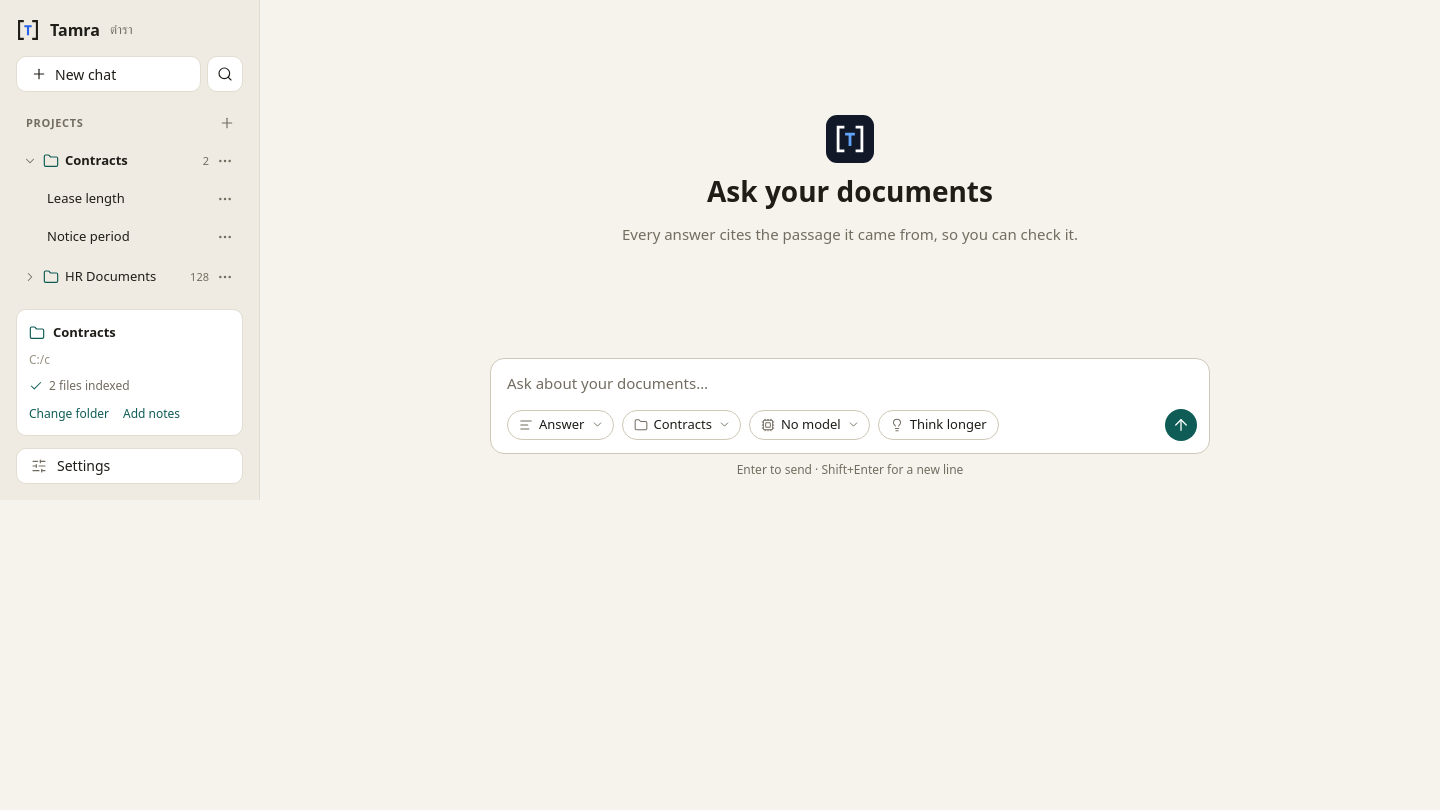
The project menu › deletes a project after a confirmation that names its chats
Click the button named "Options for project Contracts".
click(225, 161)  # box [211,147,239,175]
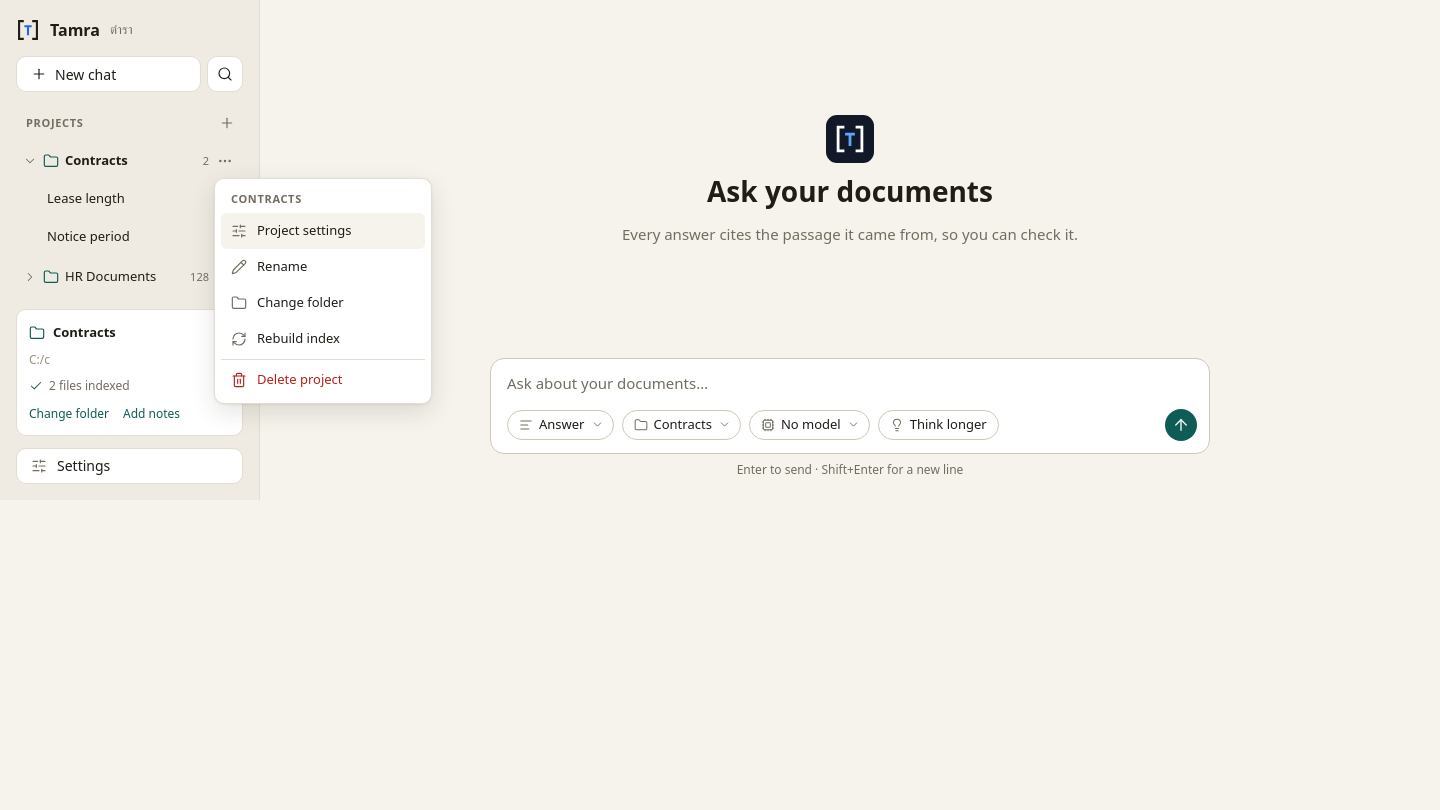
Click the menu item "Delete project".
click(323, 380)  # box [221,362,425,398]
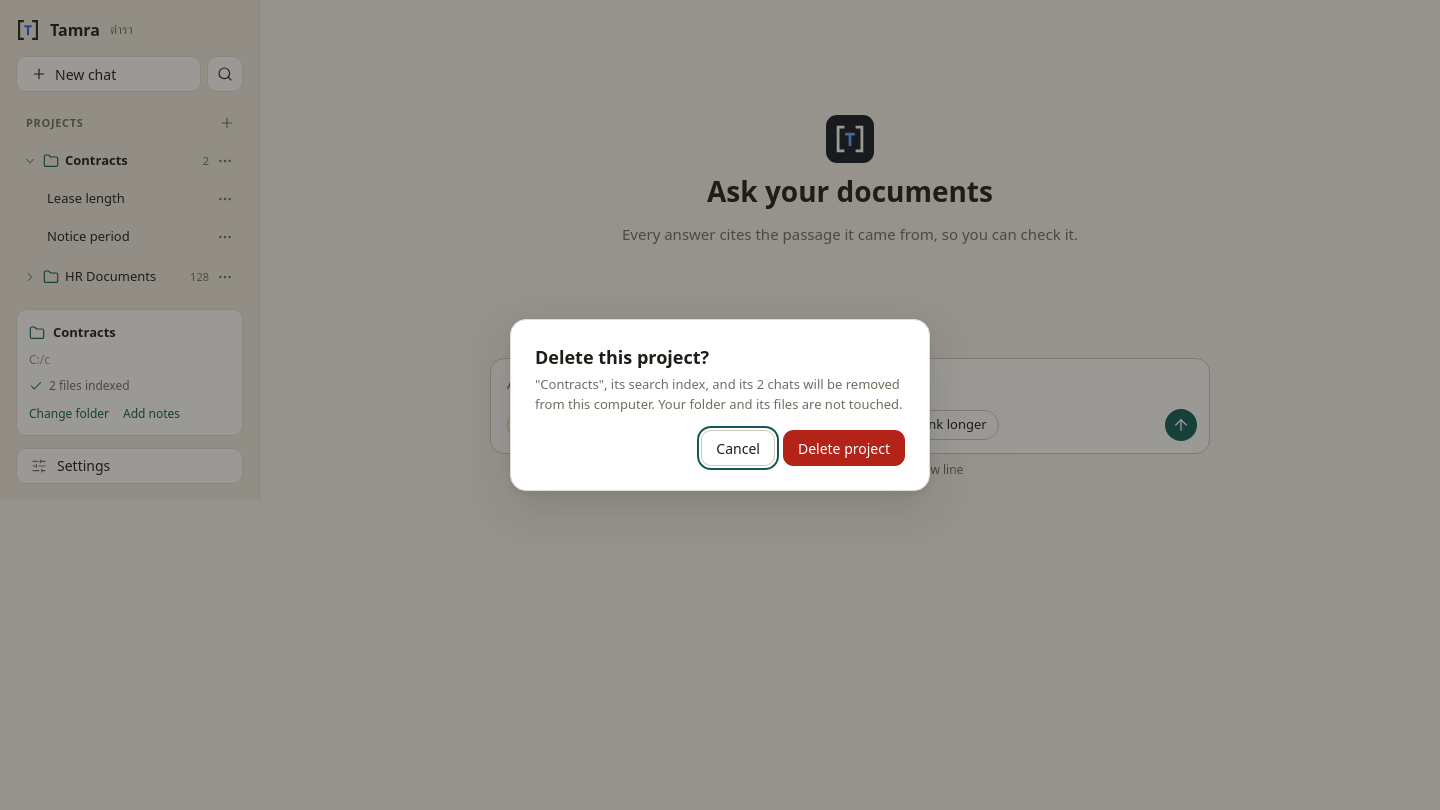
Check: the heading "Delete this project?" is shown, box [535,345,709,369]
Check: the dialog shows "\"Contracts\", its search index, and its 2 chats will be removed from this computer.", box [535,375,902,413]
Check: the dialog shows "Your folder and its files are not touched.", box [535,375,902,413]
Click the button "Cancel".
click(738, 448)  # box [701,430,775,466]
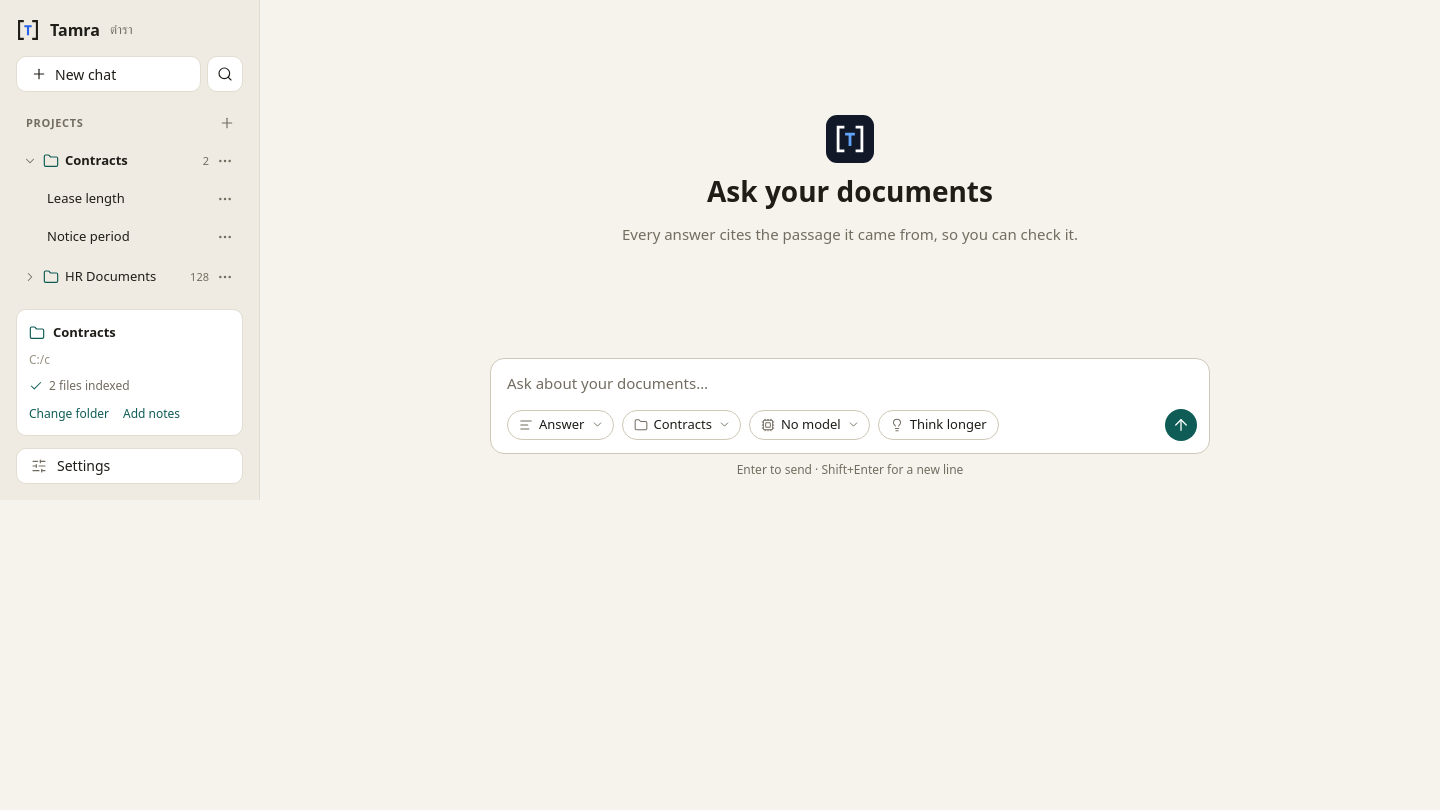
Click the button named "Options for project Contracts".
click(225, 161)  # box [211,147,239,175]
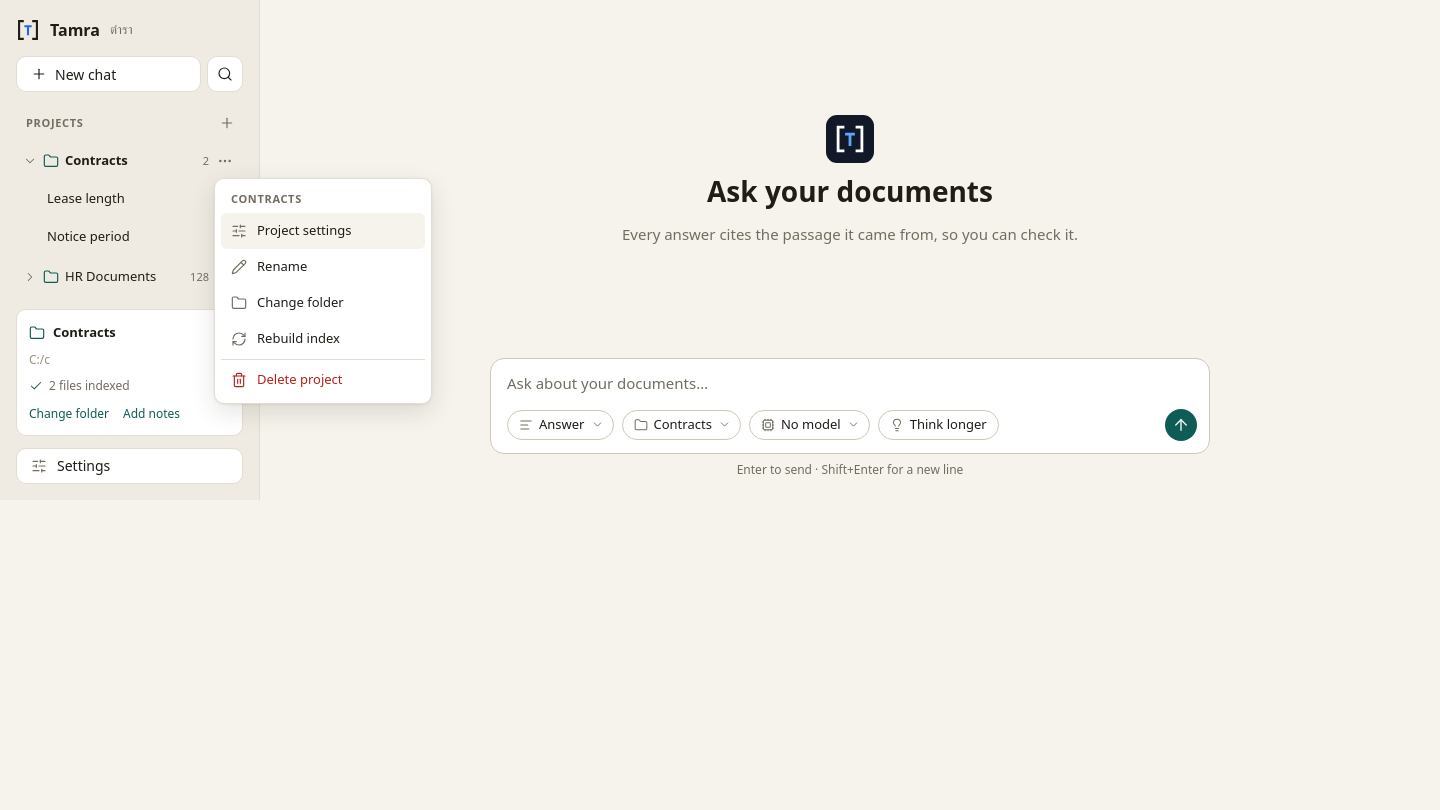
Click the menu item "Delete project".
click(323, 380)  # box [221,362,425,398]
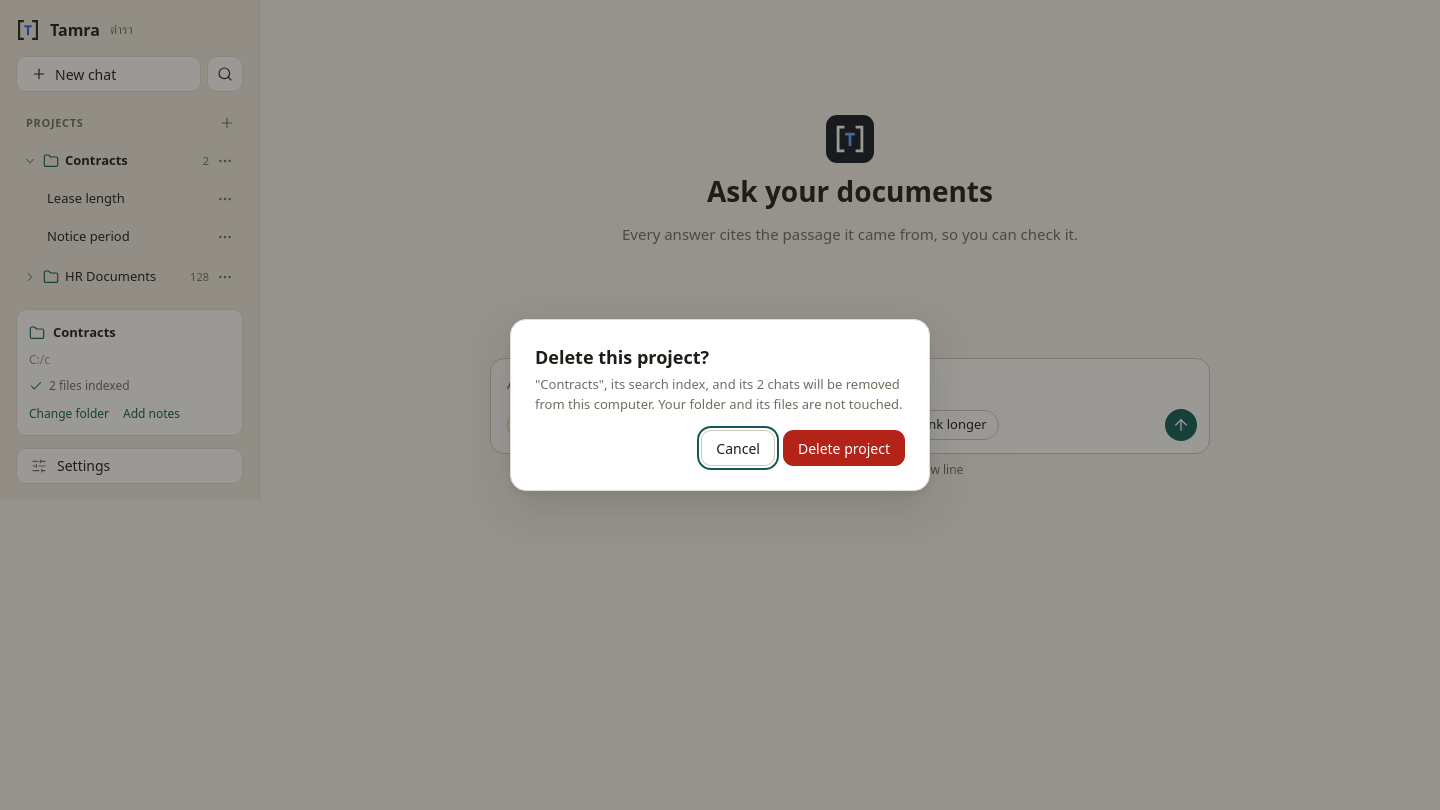
Click the button "Delete project".
click(844, 448)  # box [783,430,905,466]
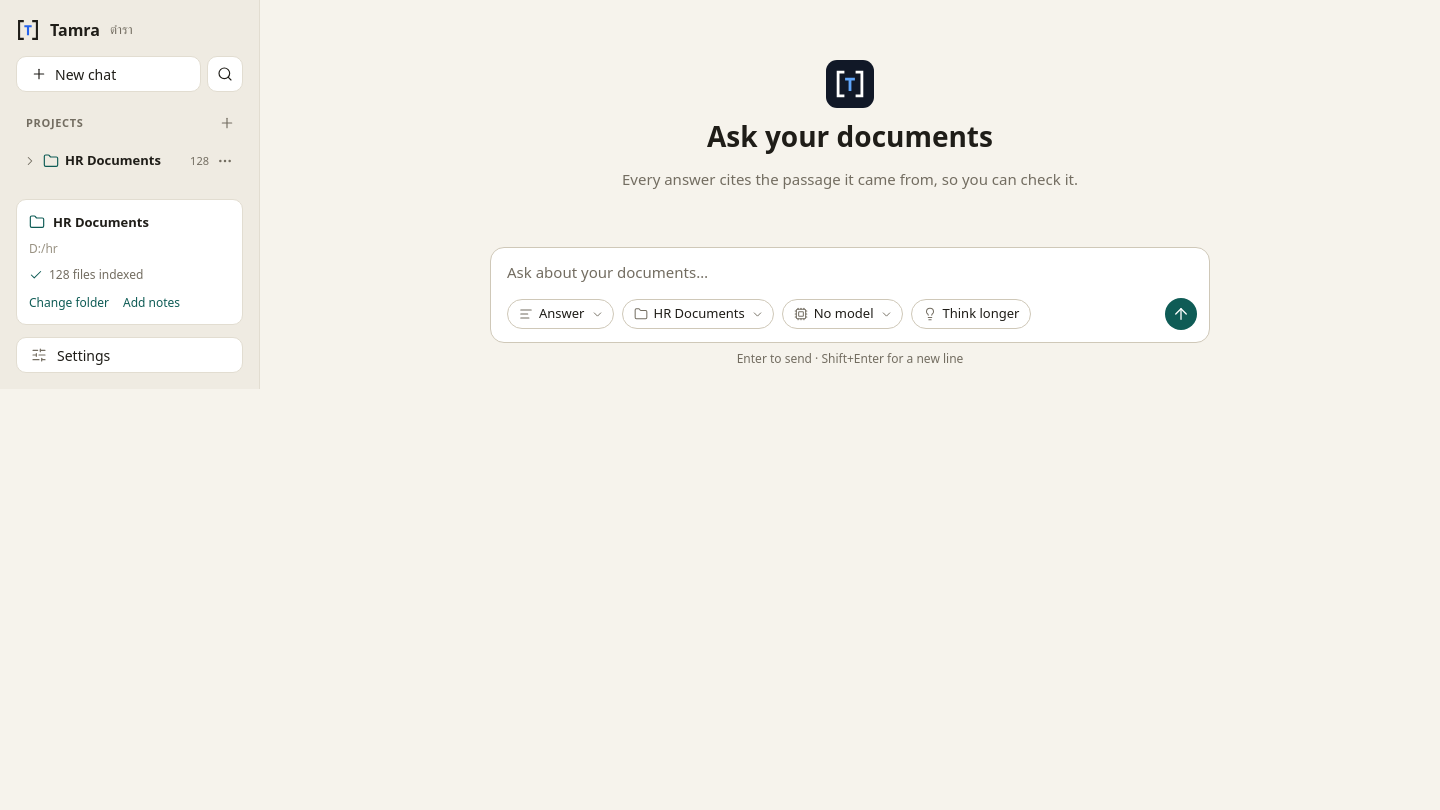
Check: the dialog is gone
Check: the text "Lease length" is gone
